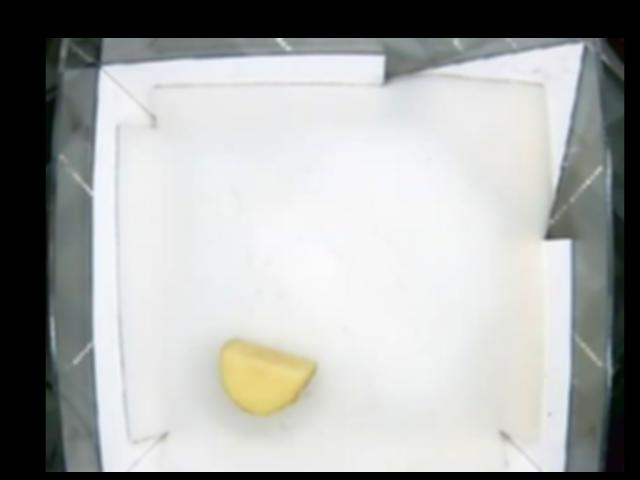Potato: (219, 338, 317, 416)
